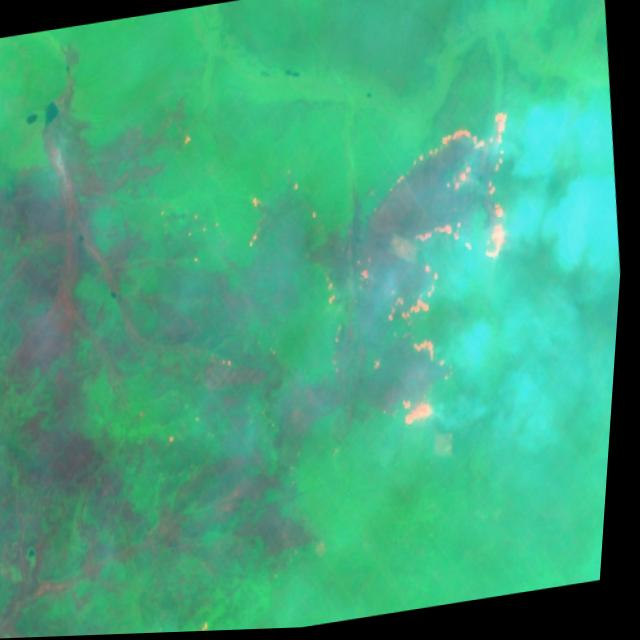fire: (334, 104, 549, 445)
